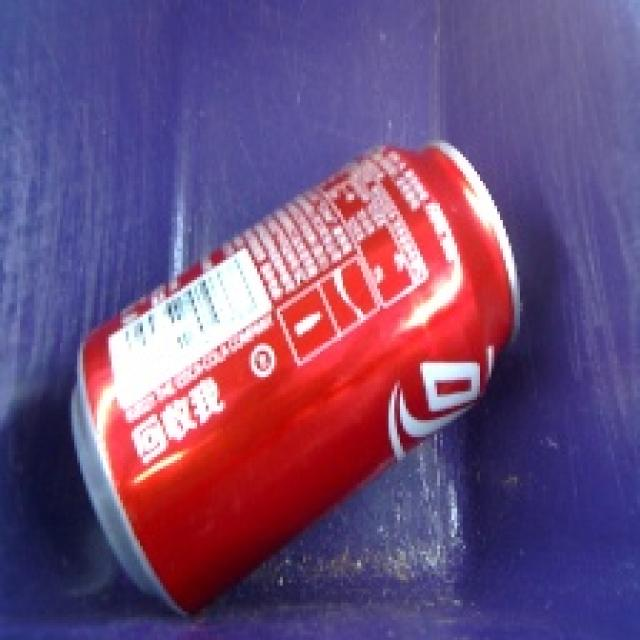metal: (41, 120, 556, 630)
